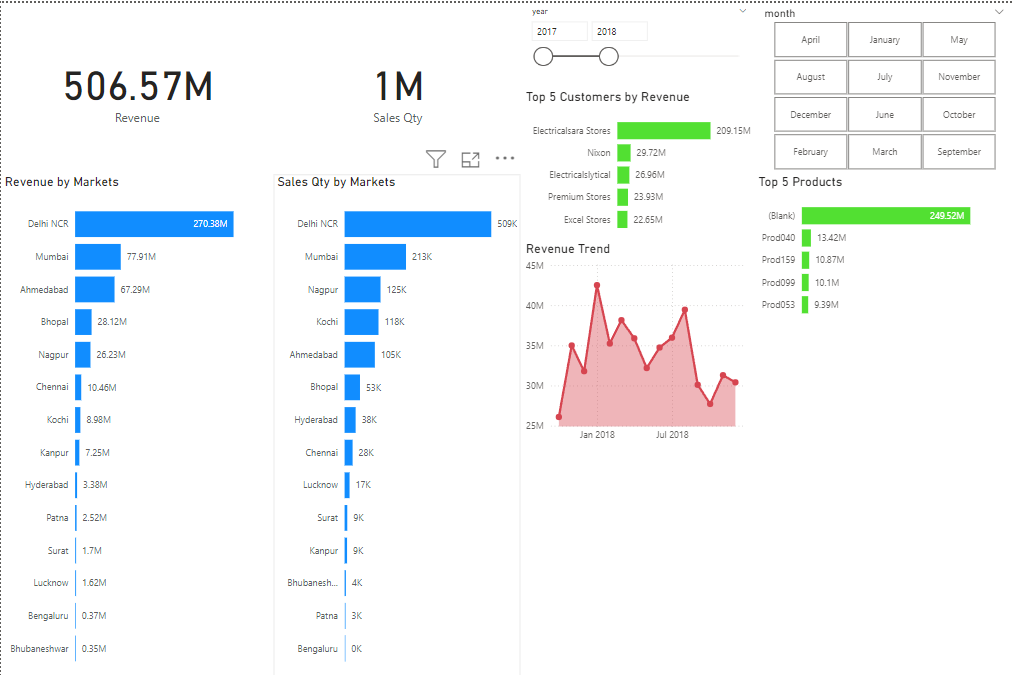

What the dashboard file says about the page in this screenshot:
{"tool":"powerbi","page":{"name":"Page 1","canvas":[1350,900],"ordinal":0},"visuals":[{"type":"card","fields":{"Values":["BayesMeasures.Revenue"]},"box":[0,0,363.8,227.5],"z":0},{"type":"card","fields":{"Values":["BayesMeasures.Sales Qty"]},"box":[363.3,0,331.7,228.3],"z":1},{"type":"barChart","title":"Revenue by Markets","fields":{"Y":["BayesMeasures.Revenue"],"Category":["sales markets.markets_name"]},"box":[0,227.5,363.8,672.5],"z":2},{"type":"barChart","title":"Sales Qty by Markets","fields":{"Y":["BayesMeasures.Sales Qty"],"Category":["sales markets.markets_name"]},"box":[363.8,227.5,330,672.5],"z":3},{"type":"slicer","fields":{"Values":["sales date.year"]},"box":[694.3,0,311.4,114.3],"z":4},{"type":"slicer","fields":{"Values":["sales date.month_name"]},"box":[1005,0,345,228.3],"z":5},{"type":"barChart","title":"Top 5 Customers by Revenue","fields":{"Y":["BayesMeasures.Revenue"],"Category":["sales customers.custmer_name"]},"box":[694.3,114.3,310,202.9],"z":6},{"type":"barChart","title":"Top 5 Products","fields":{"Y":["BayesMeasures.Revenue"],"Category":["sales products.product_code"]},"box":[1005,228.3,345,203.3],"z":7},{"type":"lineChart","title":"Revenue Trend","fields":{"Y":["BayesMeasures.Revenue"],"Category":["sales date.cy_date.Variation.Date Hierarchy.Year","sales date.cy_date.Variation.Date Hierarchy.Quarter","sales date.cy_date.Variation.Date Hierarchy.Month","sales date.cy_date.Variation.Date Hierarchy.Day"]},"box":[694.3,317.1,311.4,277.1],"z":8}]}

Visuals, with their boxes in screenshot pixels (x1, y1, x2, y2), scaled from the page's 1350x900 canvas onto the 1012x675 screenshot:
card - BayesMeasures.Revenue: <box>0,0,273,171</box>
card - BayesMeasures.Sales Qty: <box>272,0,521,171</box>
"Revenue by Markets" barChart: <box>0,171,273,674</box>
"Sales Qty by Markets" barChart: <box>273,171,520,674</box>
slicer - sales date.year: <box>520,0,754,86</box>
slicer - sales date.month_name: <box>753,0,1011,171</box>
"Top 5 Customers by Revenue" barChart: <box>520,86,753,238</box>
"Top 5 Products" barChart: <box>753,171,1011,324</box>
"Revenue Trend" lineChart: <box>520,238,754,446</box>
